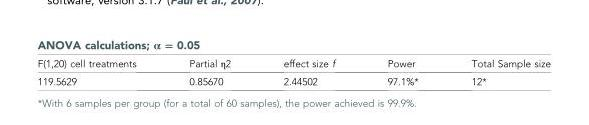table: (36, 36, 550, 86)
table column: (36, 36, 162, 86), (444, 36, 550, 86), (256, 36, 360, 86), (162, 36, 256, 86), (360, 36, 444, 86)
table column header: (36, 36, 550, 73)
table row: (36, 54, 550, 73), (36, 36, 550, 54), (36, 73, 550, 86)
table spanning cell: (36, 36, 550, 54)
